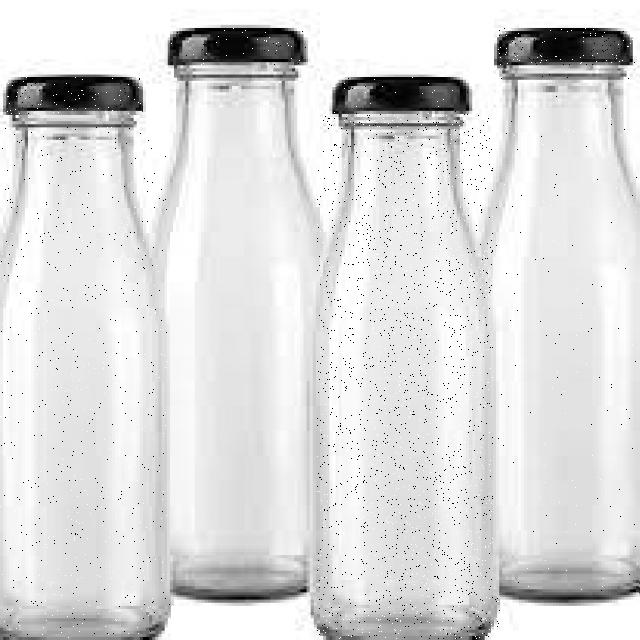glass: (317, 112, 500, 639), (0, 128, 170, 640), (168, 82, 322, 596), (494, 70, 639, 596)
metal: (498, 28, 636, 65), (171, 28, 307, 65), (337, 77, 472, 114), (8, 77, 142, 114)
